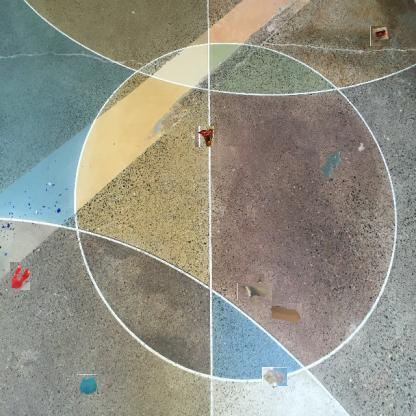dirty: (268, 302, 302, 324), (242, 278, 268, 305), (263, 365, 286, 388), (77, 374, 98, 395), (194, 125, 214, 147), (370, 26, 389, 46)
liquid: (319, 150, 341, 178), (10, 262, 30, 290)
